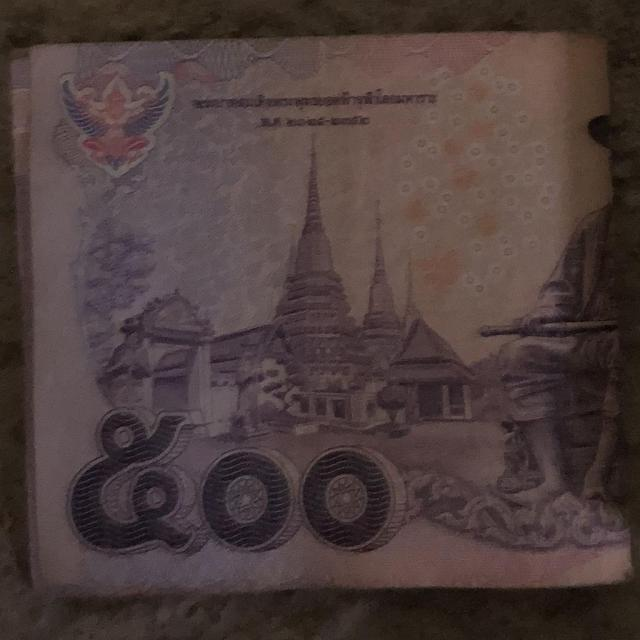THAI500: (12, 33, 632, 595)
